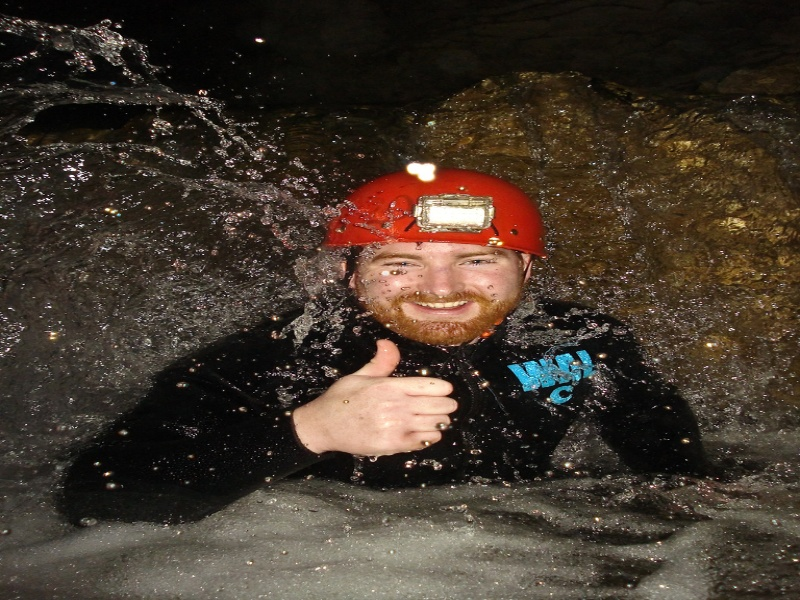Baret: (324, 168, 547, 267)
